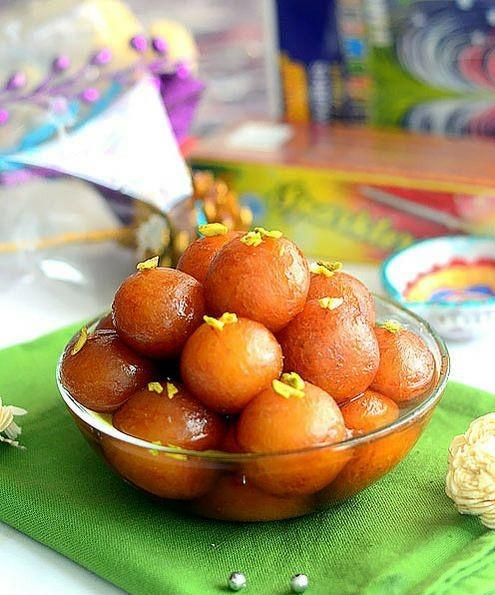GulabJamun: (112, 385, 224, 496), (245, 372, 353, 483), (113, 257, 211, 361), (209, 232, 311, 331), (185, 315, 287, 412), (282, 299, 378, 398), (62, 330, 155, 416), (372, 320, 436, 412), (343, 392, 402, 477), (308, 263, 374, 331), (176, 224, 239, 273)
